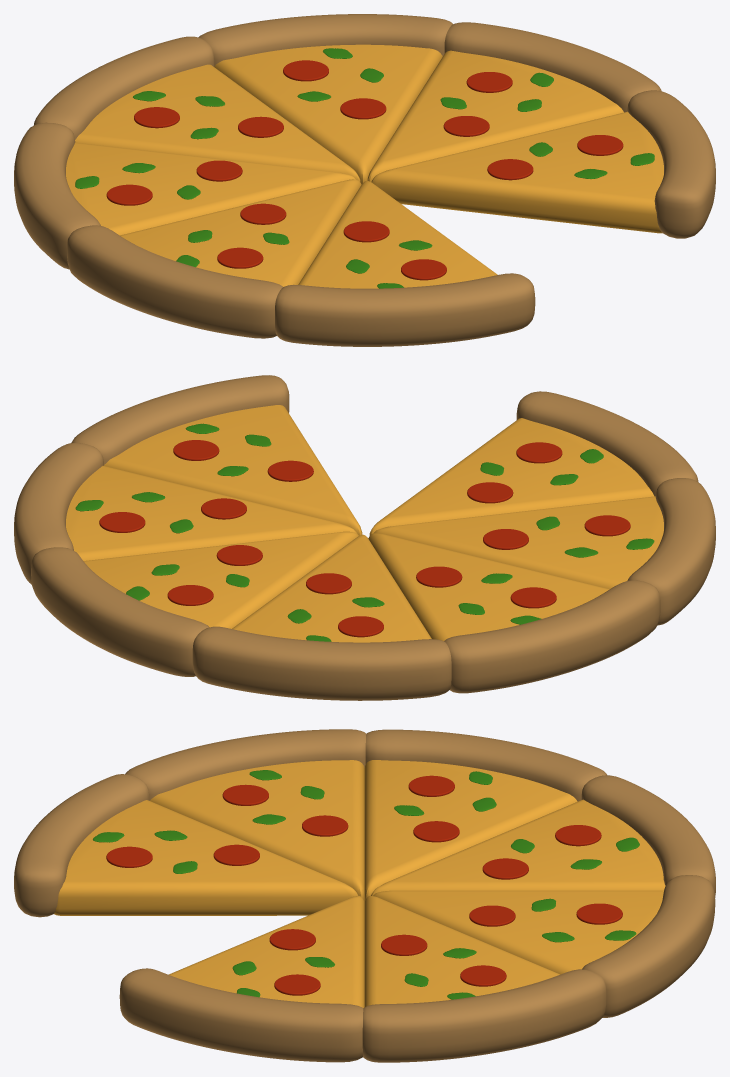
File: pizza-fun-loading-animated-3d-icon-107238493651.glb
The picture shows the model from 3 angles, top to bottom: view 1: azimuth 30°, elevation 25°; view 2: azimuth 150°, elevation 25°; view 3: azimuth 270°, elevation 25°; orthographic projection.
Visible parts, largest first — view 1: Pizza.002, Edge.004, Pizza, Pizza.001, Pizza.007, Edge.005, Pizza.006, Pizza.005, Pizza.004, Edge.002, Edge, Edge.001 (+23 smaller); view 2: Edge.007, Pizza.002, Pizza.004, Edge.006, Pizza.001, Pizza.005, Pizza, Edge, Pizza.006, Pizza.007, Edge.005, Edge.002 (+23 smaller); view 3: Pizza.004, Edge.001, Edge.002, Pizza.006, Pizza.005, Pizza.007, Pizza, Pizza.001, Pizza.002, Edge, Edge.004, Edge.005 (+23 smaller).
Boxes of the visible parts, x1,y1,x2,y2 form: Pizza.002: (371,111,663,233); Edge.004: (275,273,535,346); Pizza: (214,44,442,184); Pizza.001: (367,50,623,182); Pizza.007: (75,64,360,181); Edge.005: (67,225,282,338); Pizza.006: (66,142,355,235); Pizza.005: (120,179,361,286); Pizza.004: (298,181,497,288); Edge.002: (627,90,715,238); Edge: (198,14,452,66); Edge.001: (444,22,661,112); Edge.007: (192,626,451,700); Pizza.002: (104,405,362,535); Pizza.004: (369,418,654,535); Edge.006: (444,580,660,693); Pizza.001: (66,465,357,560); Pizza.005: (374,496,663,589); Pizza: (83,531,358,628); Edge: (31,547,209,676); Pizza.006: (368,533,609,640); Pizza.007: (232,534,431,642); Edge.005: (627,478,715,625); Edge.002: (71,375,289,464); Pizza.004: (54,800,358,915); Edge.001: (362,969,606,1062); Edge.002: (119,968,363,1062); Pizza.006: (364,760,577,901); Pizza.005: (150,760,364,901); Pizza.007: (371,799,665,895); Pizza: (373,890,663,974); Pizza.001: (364,896,559,1006); Pizza.002: (168,896,364,1007); Edge: (582,875,715,1017); Edge.004: (14,774,149,917); Edge.005: (125,729,366,800).
Bounding box in the file's own units: 2.22 × 0.176 × 2.22.
